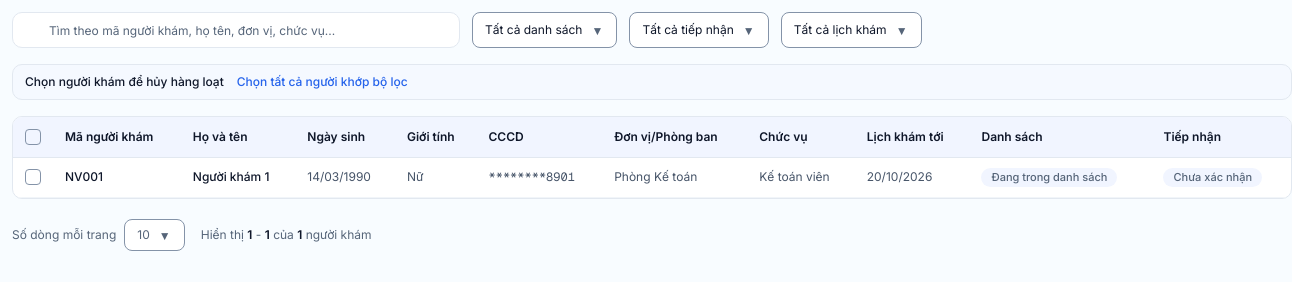
manual Participant actions are shown only when allowed › offers ticking and cancelling with the remove permission alone
The image size is (1292, 282).
expect the text "Chọn người khám để hủy hàng loạt" is shown: met, box 25,74 -> 224,90
Click the checkbox named "Chọn Người khám 1": (33, 177) 25,169 -> 41,185
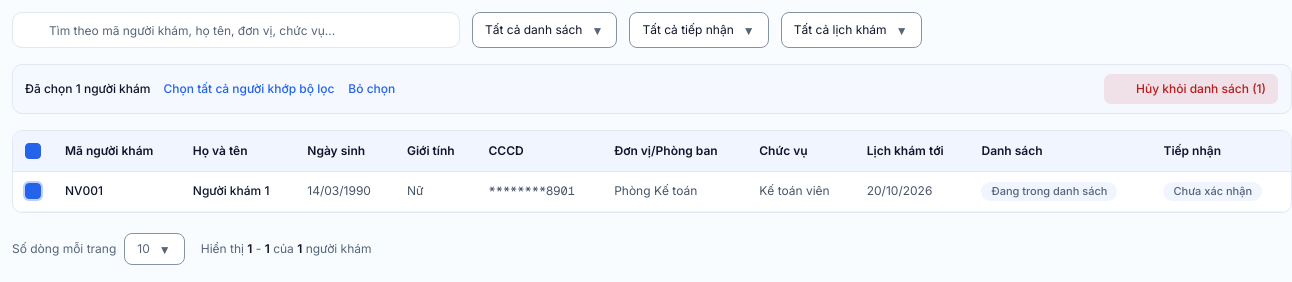
expect the button "Hủy khỏi danh sách (1)" is shown: met, box 1103,73 -> 1279,105
